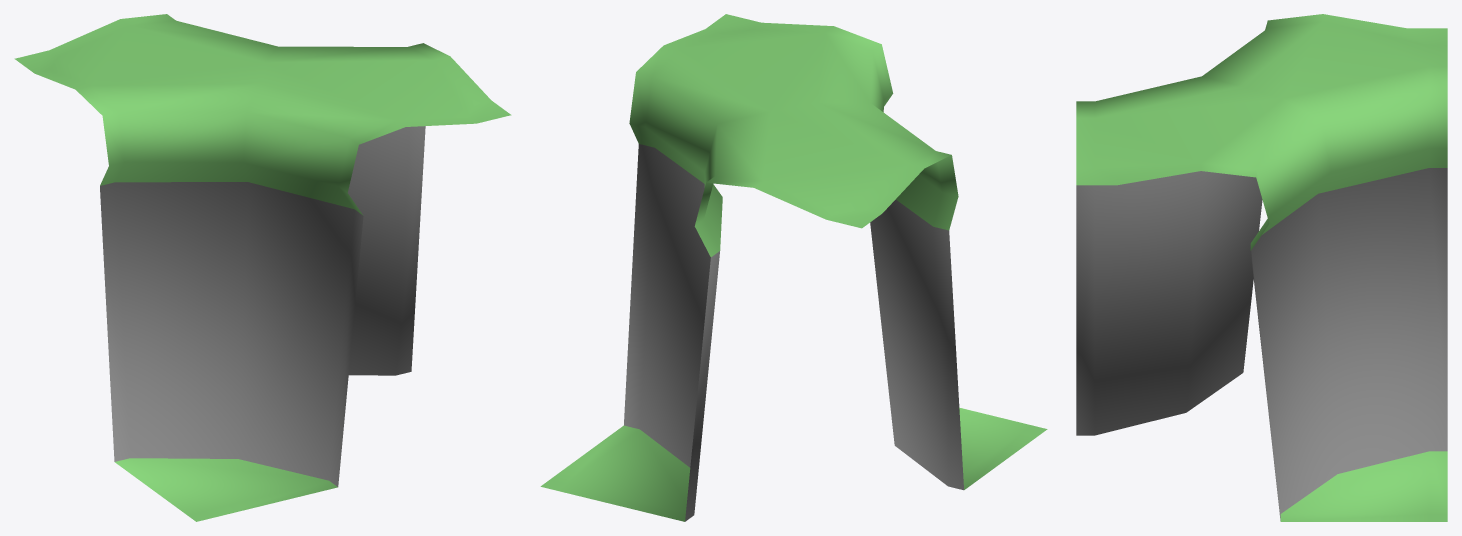
The model's file is tile_mid_cliff_1010.fbx.
3 renders of one model, left to right at view 1: azimuth 30°, elevation 25°; view 2: azimuth 150°, elevation 25°; view 3: azimuth 270°, elevation 25°, orthographic. The views are drawn at different scales.
Visible parts, largest first — view 1: tile_mid_cliff1010; view 2: tile_mid_cliff1010; view 3: tile_mid_cliff1010.
Part boxes in pixels (x1=…): tile_mid_cliff1010: x1=14, y1=14, x2=511, y2=521; tile_mid_cliff1010: x1=540, y1=14, x2=1047, y2=521; tile_mid_cliff1010: x1=1076, y1=14, x2=1447, y2=521.
Size of the model in its own units: 2 by 2.08 by 2.
